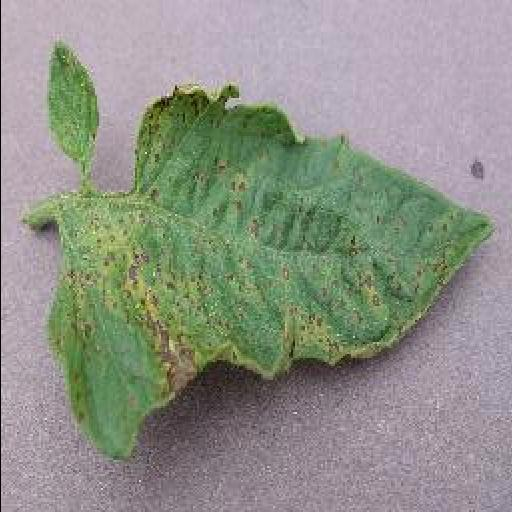disease_tomato: (42, 82, 500, 459)
